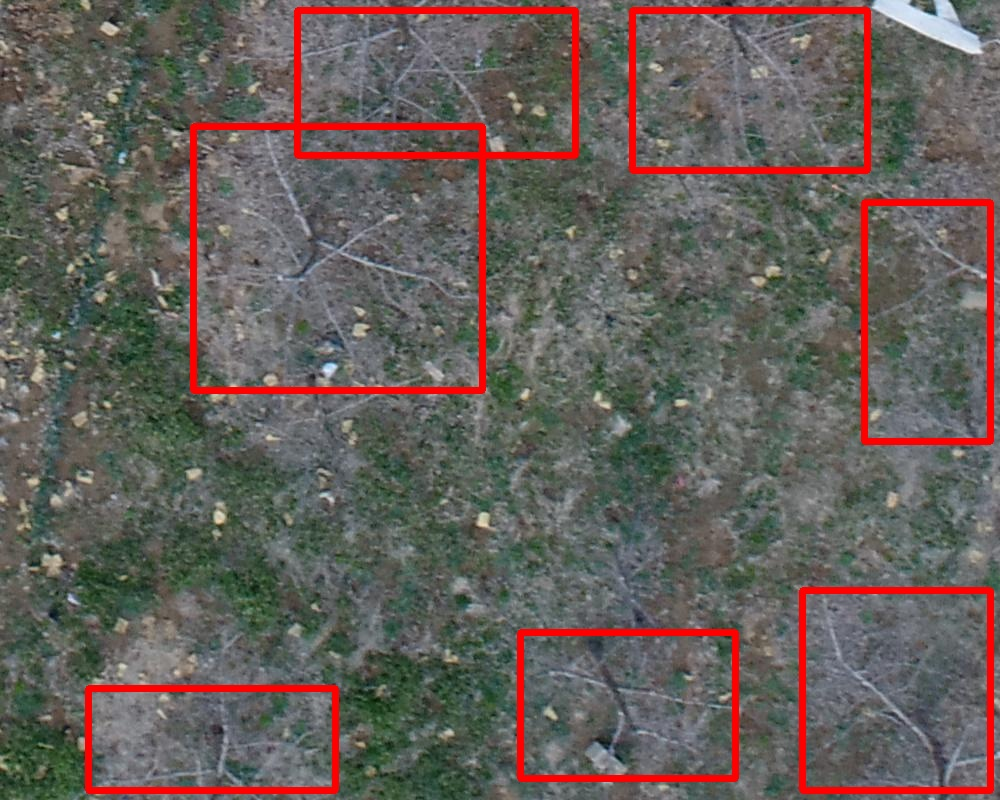apple: (193, 126, 482, 390), (297, 10, 575, 155), (632, 10, 867, 170), (802, 590, 990, 790), (520, 632, 735, 778), (864, 202, 990, 441), (88, 688, 335, 790)
